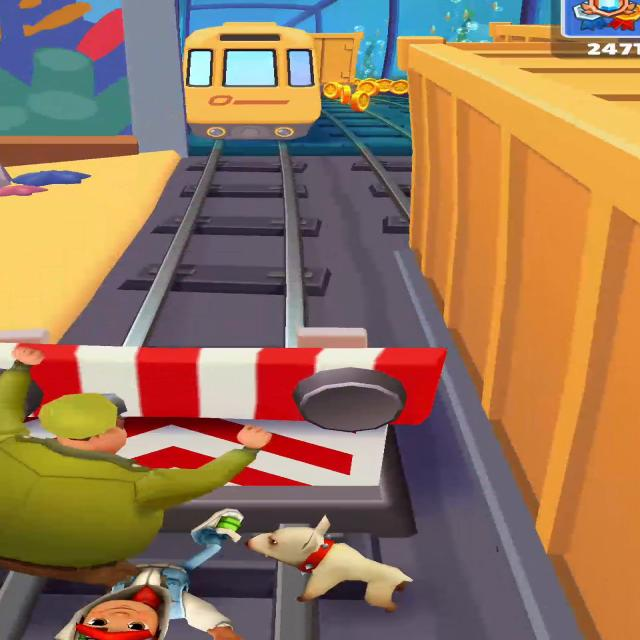police: (0, 347, 271, 587)
roll blocker: (35, 345, 445, 487)
train: (399, 37, 639, 640), (185, 22, 320, 139), (311, 32, 363, 84)
